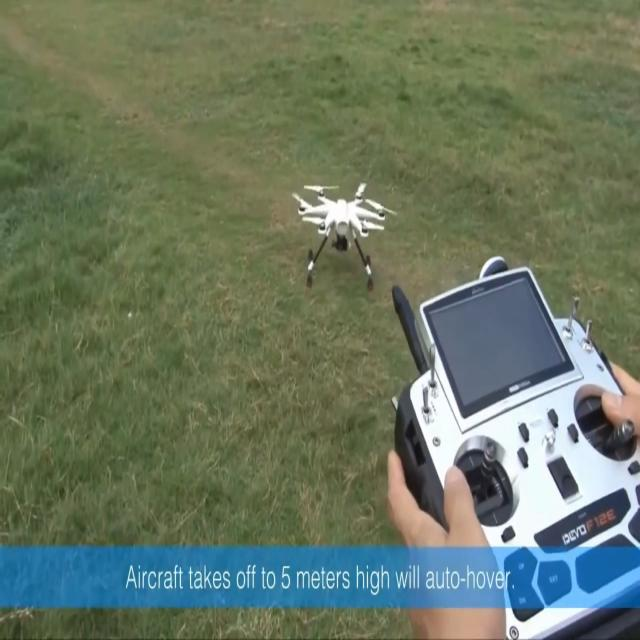drone: (291, 181, 397, 292)
